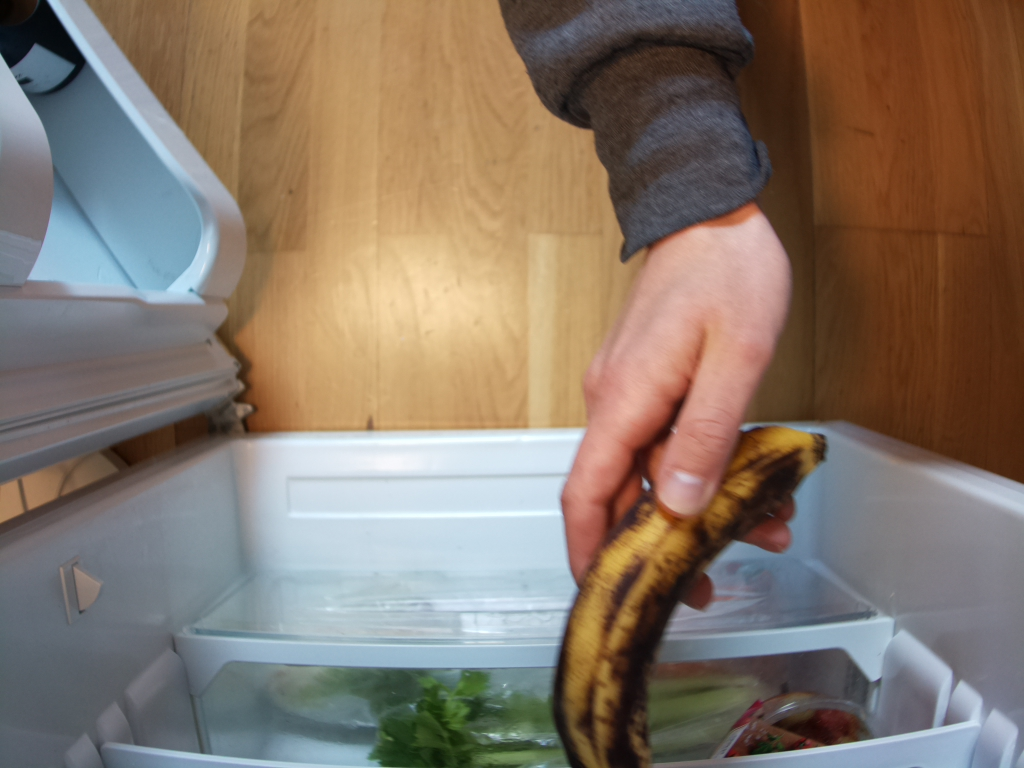banana-overripe: (549, 424, 826, 768)
